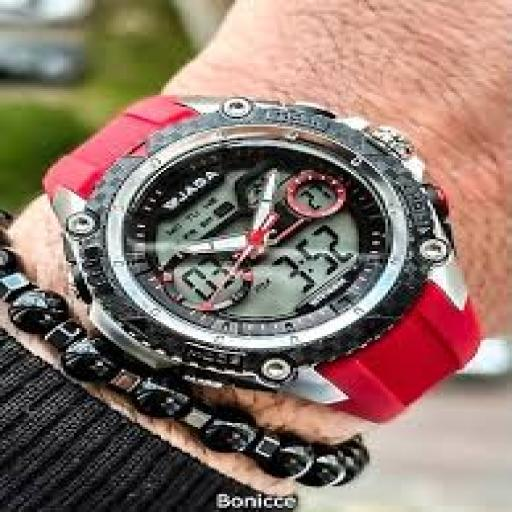KolSaati: (14, 42, 477, 439)
